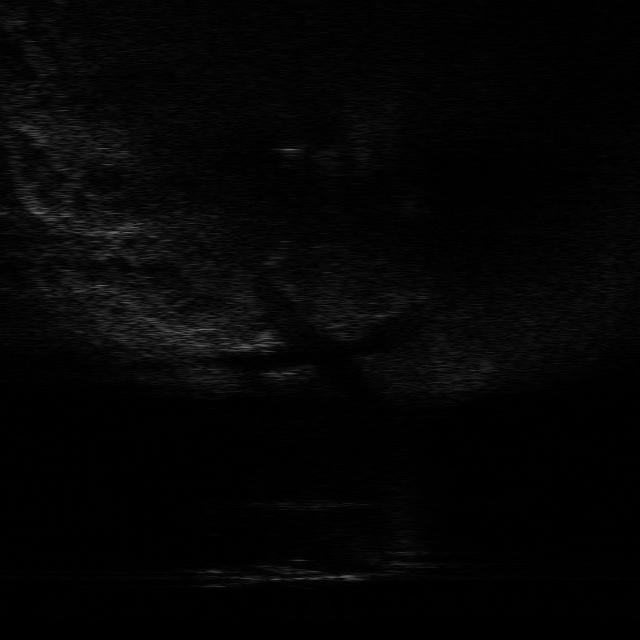plane: (188, 540, 426, 592)
